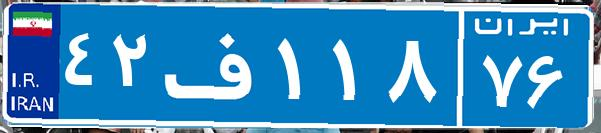1: (273, 28, 330, 110), (330, 28, 385, 110)
2: (110, 28, 158, 105)
4: (57, 26, 110, 107)
6: (525, 38, 570, 115)
7: (475, 38, 525, 113)
8: (385, 28, 445, 110)
ف: (158, 15, 273, 115)
